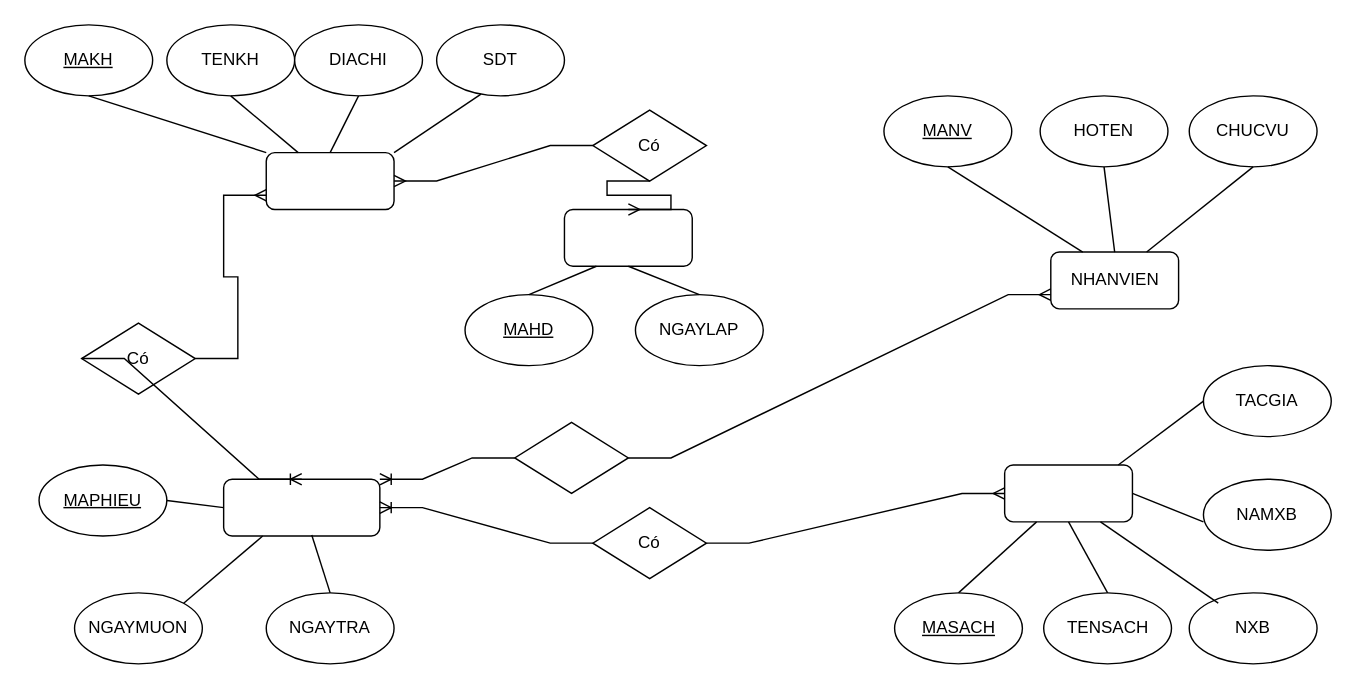
Image size: 1356x689. Some labels were removed from this diagram. Here are the shapes that lost their labels. From the top down, the centre of each, then its label:
At (329,180): "KHACHHANG".
At (627,237): "HOADON".
At (570,457): "Làm".
At (301,507): "PHIEUMUONTRA".
At (1067,493): "SACH".
